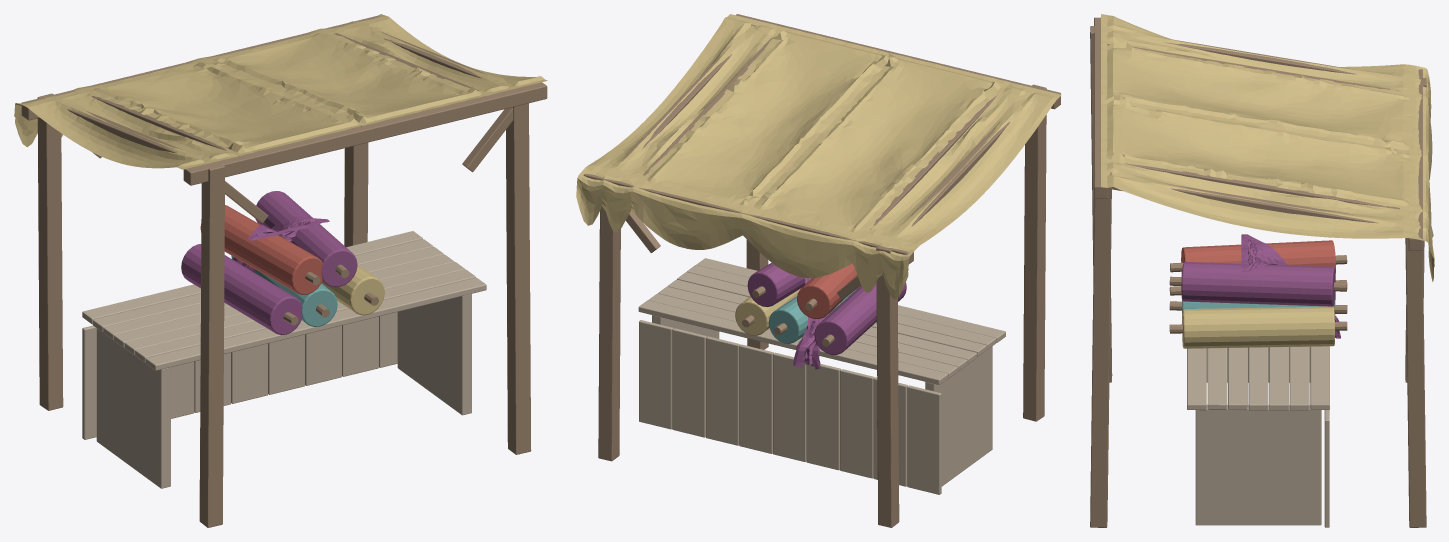
The model's file is kram_sukiennik.glb.
3 views of the same model, side by side, from view 1: azimuth 30°, elevation 25°; view 2: azimuth 150°, elevation 25°; view 3: azimuth 270°, elevation 25° (orthographic). The views are drawn at different scales.
Visible parts, largest first — view 1: kram_sukiennik; view 2: kram_sukiennik; view 3: kram_sukiennik.
Part boxes in pixels (x1=…): kram_sukiennik: x1=14, y1=14, x2=547, y2=527; kram_sukiennik: x1=576, y1=14, x2=1061, y2=527; kram_sukiennik: x1=1090, y1=14, x2=1434, y2=527.
Size of the model in its own units: 2.86 by 2.74 by 2.41.
